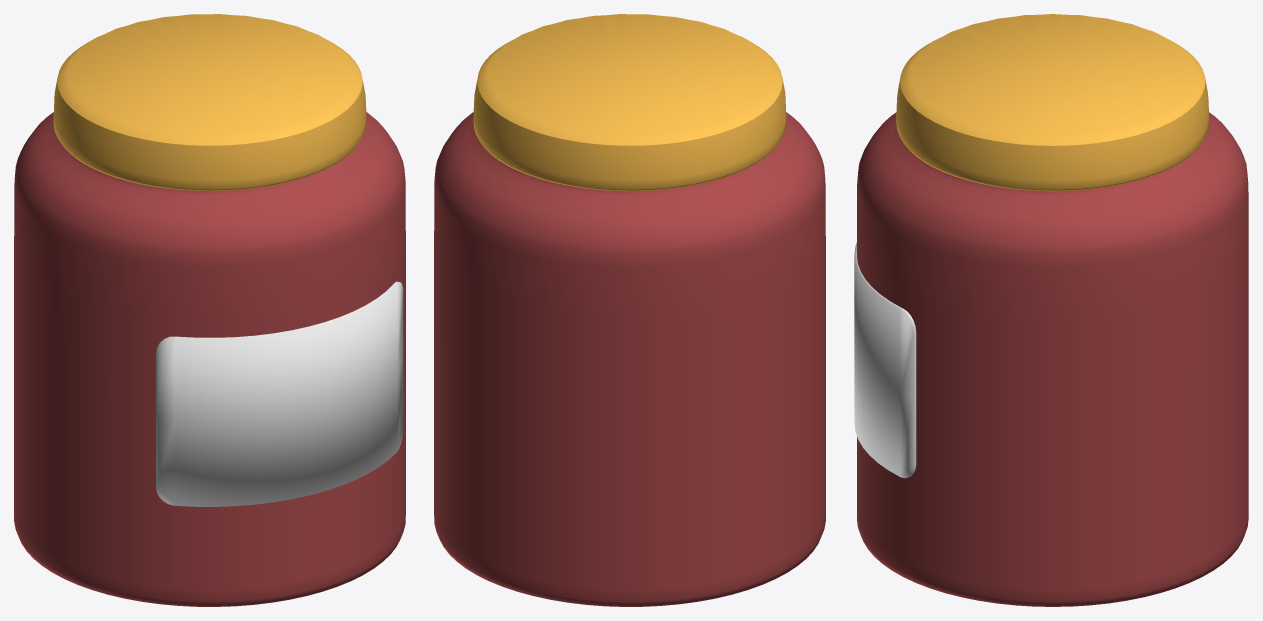
Rendered from Bottle.fbx.
3 views of the same model, side by side, from view 1: azimuth 30°, elevation 25°; view 2: azimuth 150°, elevation 25°; view 3: azimuth 270°, elevation 25° (orthographic).
Visible parts, largest first — view 1: Bottle; view 2: Bottle; view 3: Bottle.
Part boxes in pixels (bbox=[...]): Bottle: bbox=[14, 14, 405, 606]; Bottle: bbox=[434, 14, 825, 606]; Bottle: bbox=[854, 14, 1248, 606].
Bounding box in the file's own units: 1.59 × 1.6 × 2.05.
